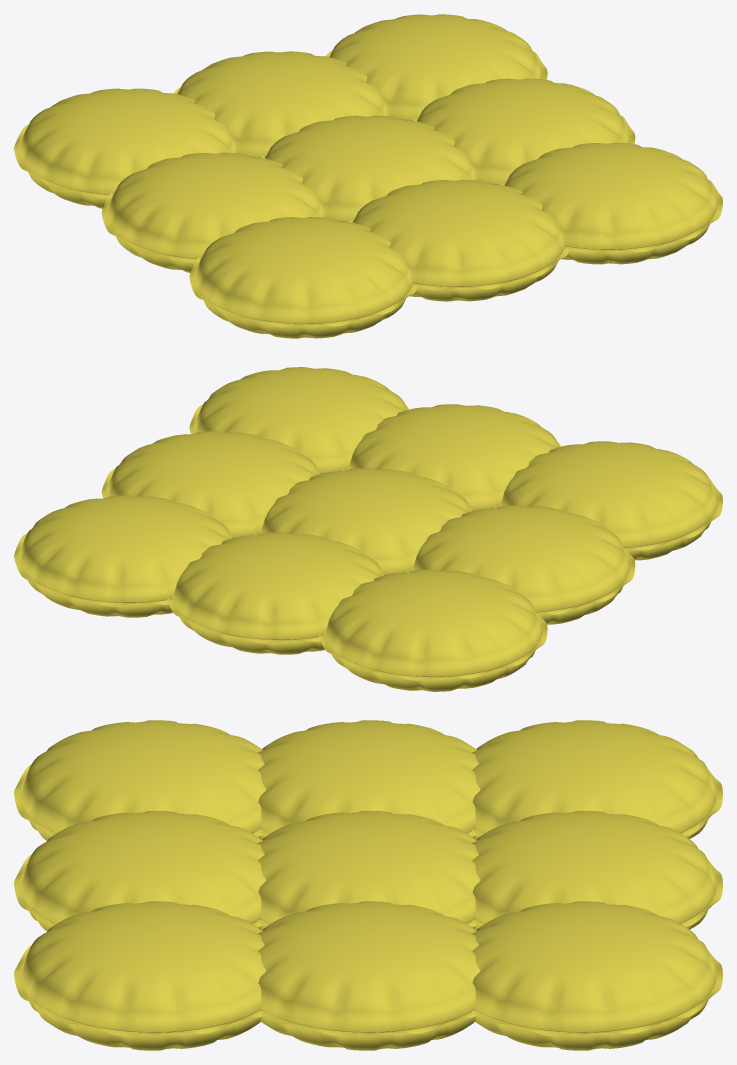
File: quilt.glb
3 views of the same model, one above another, from view 1: azimuth 30°, elevation 25°; view 2: azimuth 150°, elevation 25°; view 3: azimuth 270°, elevation 25° (orthographic). The views are drawn at different scales.
Parts seen in each view (by area): view 1: Cell, Cell.006, Cell.003, Cell.002, Cell.001, Cell.008, Cell.007, Cell.005, Cell.004, Cell weld, Cell weld.006, Cell weld.003 (+2 smaller); view 2: Cell.002, Cell.008, Cell.005, Cell, Cell.001, Cell.006, Cell.007, Cell.003, Cell.004, Cell weld.002, Cell weld.008, Cell weld.005 (+2 smaller); view 3: Cell.006, Cell.008, Cell.007, Cell.003, Cell, Cell.002, Cell.005, Cell.004, Cell.001, Cell weld.008, Cell weld.006, Cell weld.007.
Boxes of the visible parts, x1,y1,x2,y2 form: Cell: (194,217,412,338); Cell.006: (504,142,717,264); Cell.003: (353,180,564,301); Cell.002: (19,88,237,208); Cell.001: (107,152,324,272); Cell.008: (329,14,542,120); Cell.007: (417,78,629,184); Cell.005: (177,51,388,157); Cell.004: (265,115,476,221); Cell weld: (189,257,417,327); Cell weld.006: (501,180,722,253); Cell weld.003: (349,220,569,290); Cell.002: (324,569,542,691); Cell.008: (19,495,232,617); Cell.005: (172,532,384,654); Cell: (499,441,717,560); Cell.001: (411,505,629,624); Cell.006: (194,367,407,473); Cell.007: (107,431,319,538); Cell.003: (347,404,559,510); Cell.004: (259,468,471,575); Cell weld.002: (319,613,547,680); Cell weld.008: (14,533,168,606); Cell weld.005: (167,598,320,643); Cell.006: (20,901,265,1050); Cell.008: (472,901,716,1050); Cell.007: (258,901,480,1050); Cell.003: (20,810,266,930); Cell: (20,720,266,840); Cell.002: (472,720,716,839); Cell.005: (472,811,716,930); Cell.004: (258,810,480,929); Cell.001: (258,720,480,839); Cell weld.008: (471,949,722,1036); Cell weld.006: (14,945,262,1036); Cell weld.007: (257,1010,476,1036).
Bounding box in the file's own units: 1.59 × 0.224 × 1.59.
